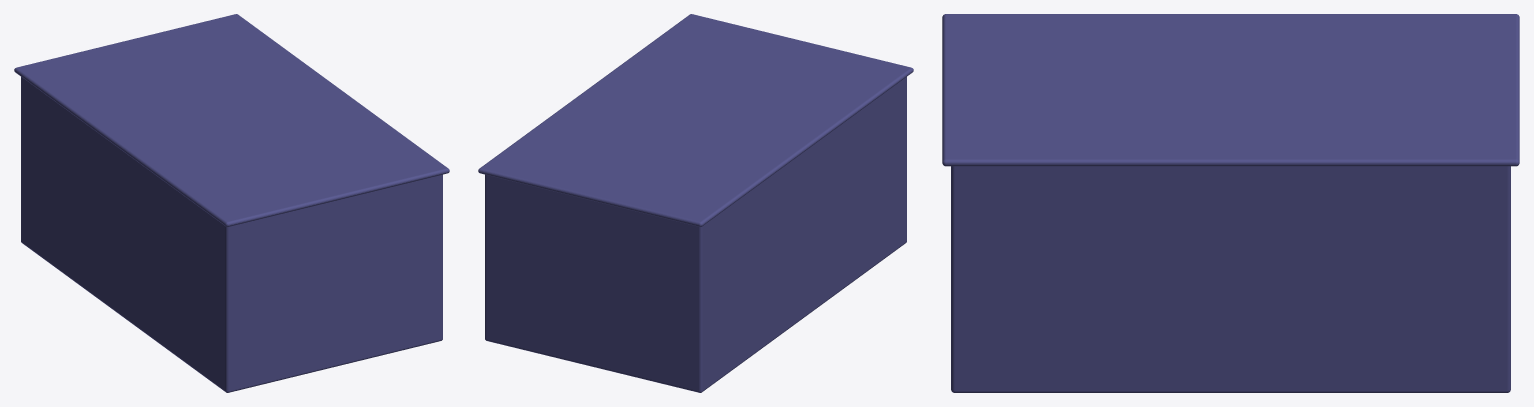
The model's file is beban_angkat_box.fbx.
3 views of the same model, side by side, from view 1: azimuth 30°, elevation 25°; view 2: azimuth 150°, elevation 25°; view 3: azimuth 270°, elevation 25° (orthographic). The views are drawn at different scales.
Parts seen in each view (by area): view 1: Cube; view 2: Cube; view 3: Cube.
Boxes of the visible parts, <box> form: Cube: <box>14,14,449,392</box>; Cube: <box>478,14,913,392</box>; Cube: <box>942,14,1519,392</box>.
Size of the model in its own units: 11.83 by 8.78 by 19.49.
